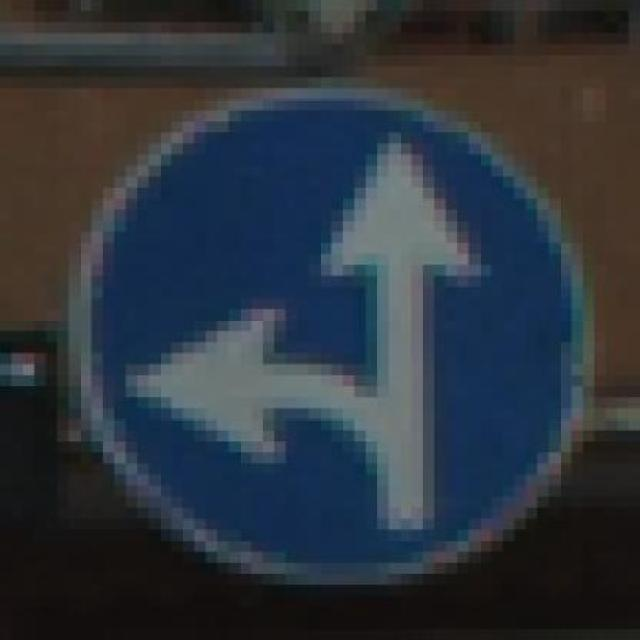Go straight or turn left: (57, 78, 617, 596)
